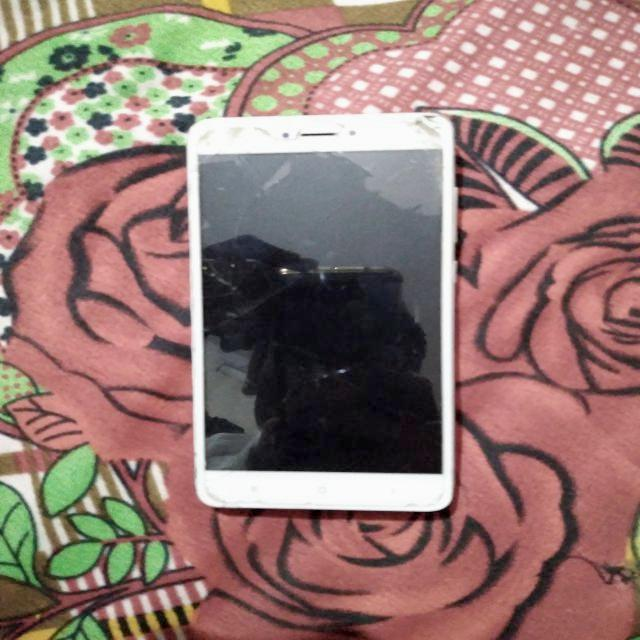phone: (172, 102, 473, 522)
